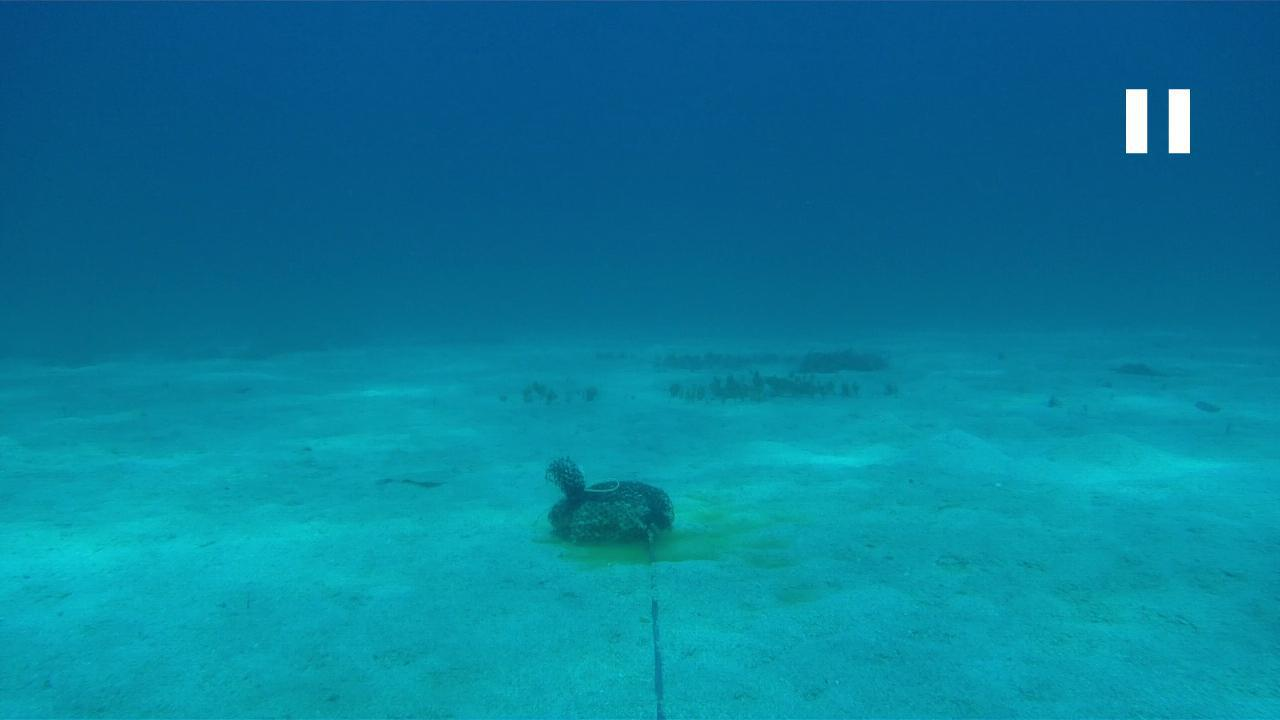bothus: (370, 466, 452, 491)
